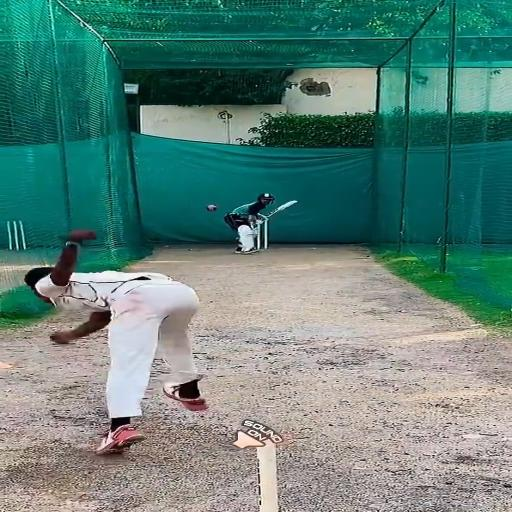Cricket bat: (268, 201, 297, 216)
